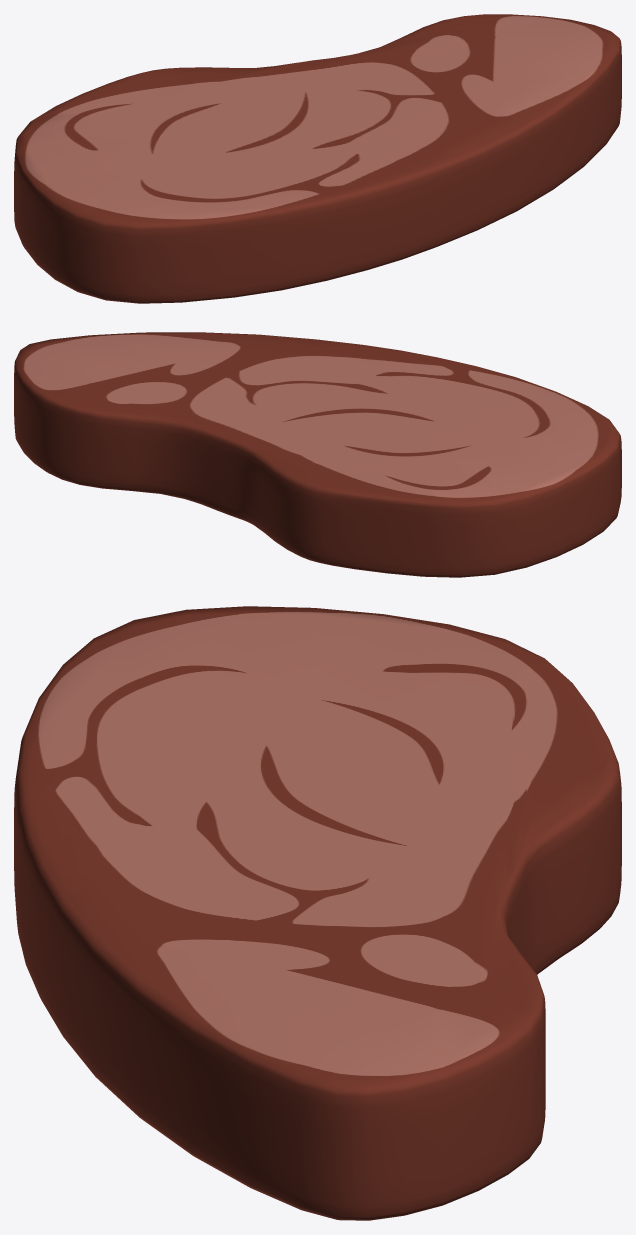
Rendered from Baked Beef.fbx.
The picture shows the model from 3 angles, top to bottom: view 1: azimuth 30°, elevation 25°; view 2: azimuth 150°, elevation 25°; view 3: azimuth 270°, elevation 25°; orthographic projection. The views are drawn at different scales.
Visible parts, largest first — view 1: Baked Beef; view 2: Baked Beef; view 3: Baked Beef.
Boxes of the visible parts, x1,y1,x2,y2 form: Baked Beef: (14,14,621,303); Baked Beef: (14,332,621,577); Baked Beef: (14,606,621,1220).
Bounding box in the file's own units: 20.26 × 2.69 × 10.67.
